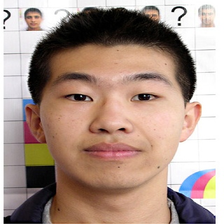no_mask: (40, 49, 182, 185)
